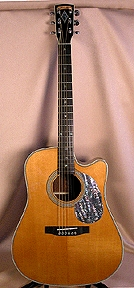guitar: (10, 6, 126, 286)
